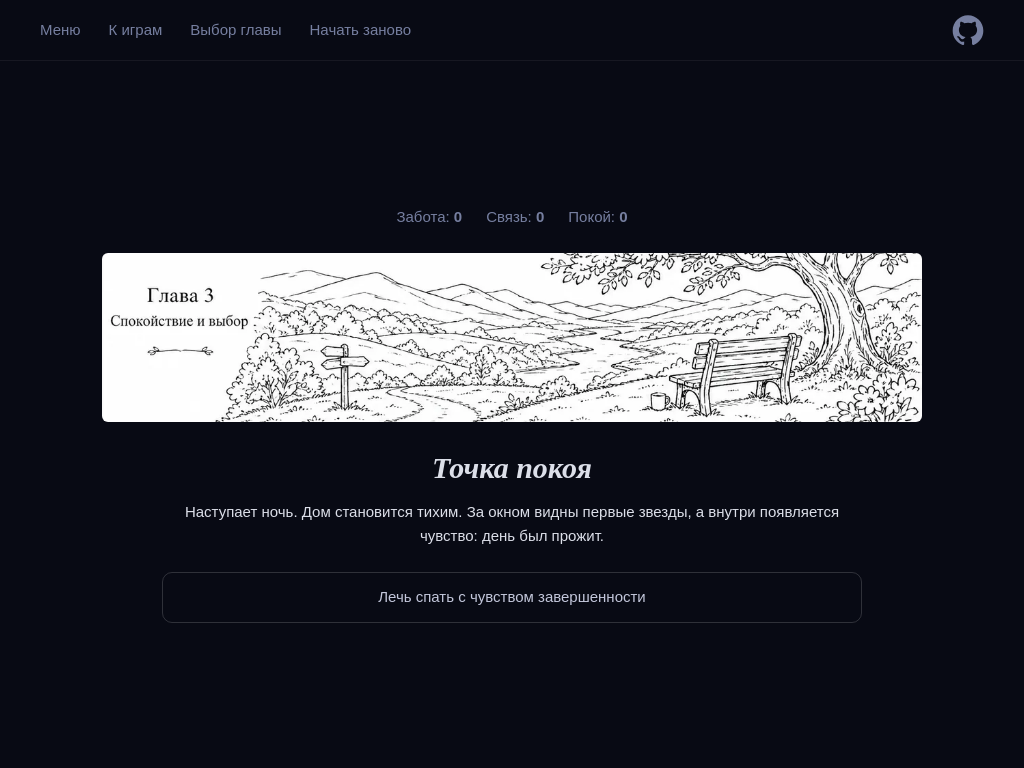
Test: endings completed during the session › the endings menu item appears without a reload
Expected: the link "Концовки" is not shown
Click the button "Лечь спать с чувством завершенности" at (512, 598), box [162,572,862,623]
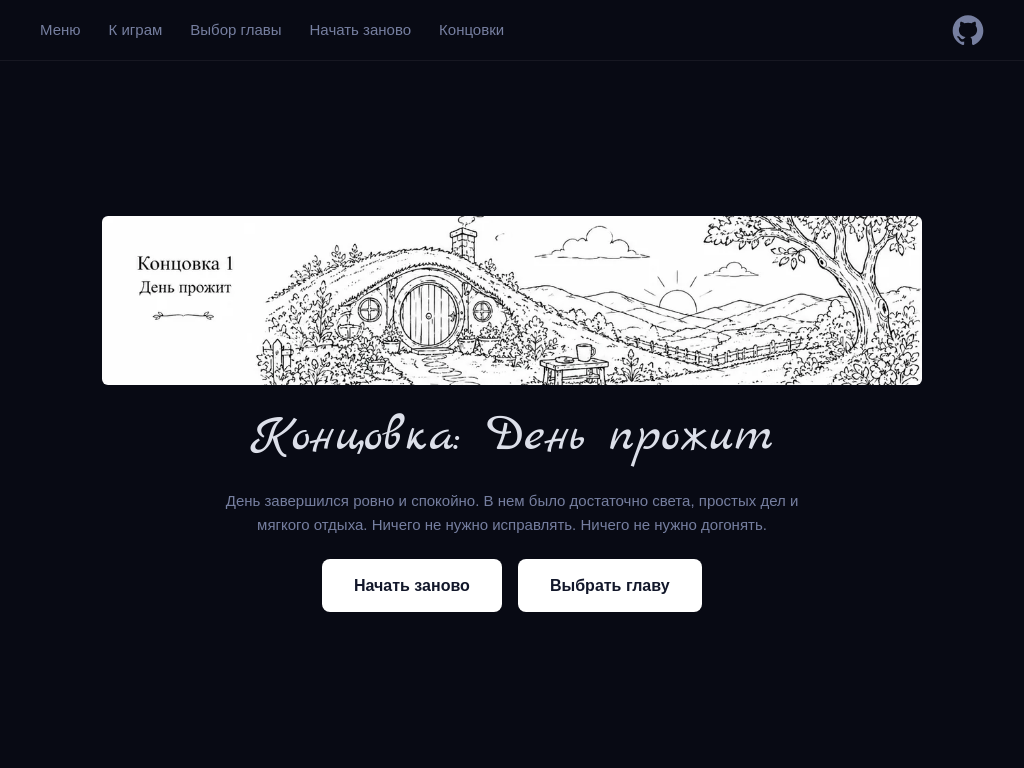
Result: the link "Концовки" is shown at [439,21,504,38]
